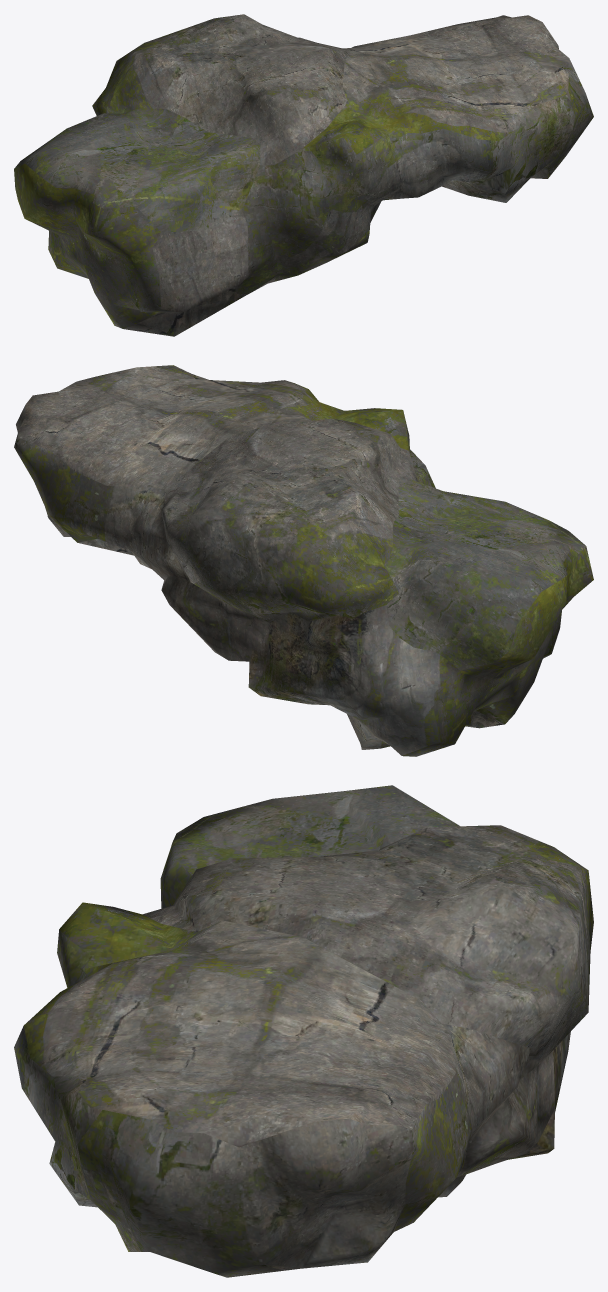
The model's file is Rock25.fbx.
3 renders of one model, top to bottom at view 1: azimuth 30°, elevation 25°; view 2: azimuth 150°, elevation 25°; view 3: azimuth 270°, elevation 25°, orthographic. The views are drawn at different scales.
Parts seen in each view (by area): view 1: LV_Campagna_Rock_Middle02_SM_EYE; view 2: LV_Campagna_Rock_Middle02_SM_EYE; view 3: LV_Campagna_Rock_Middle02_SM_EYE.
Part boxes in pixels (bbox=[...]): LV_Campagna_Rock_Middle02_SM_EYE: bbox=[14, 14, 593, 336]; LV_Campagna_Rock_Middle02_SM_EYE: bbox=[14, 365, 593, 756]; LV_Campagna_Rock_Middle02_SM_EYE: bbox=[14, 785, 593, 1277].
Bounding box in the file's own units: 4.44 × 1.98 × 2.66.
Materials: 1 (1 with a texture image).
